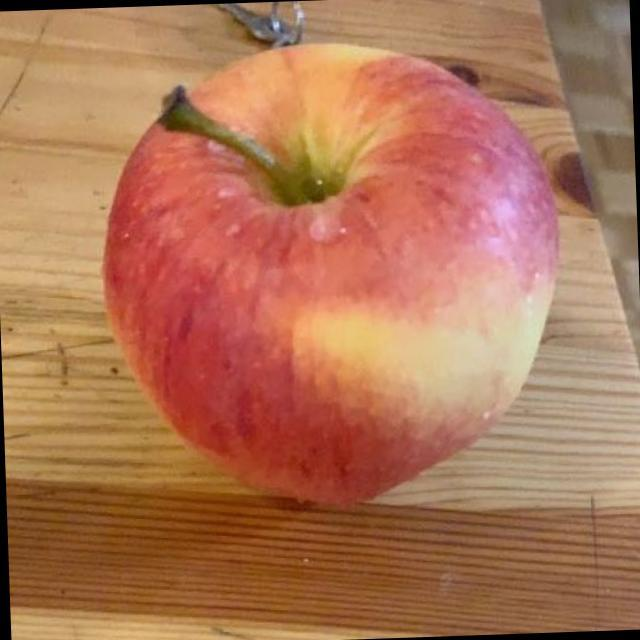Apple: (75, 18, 578, 521)
